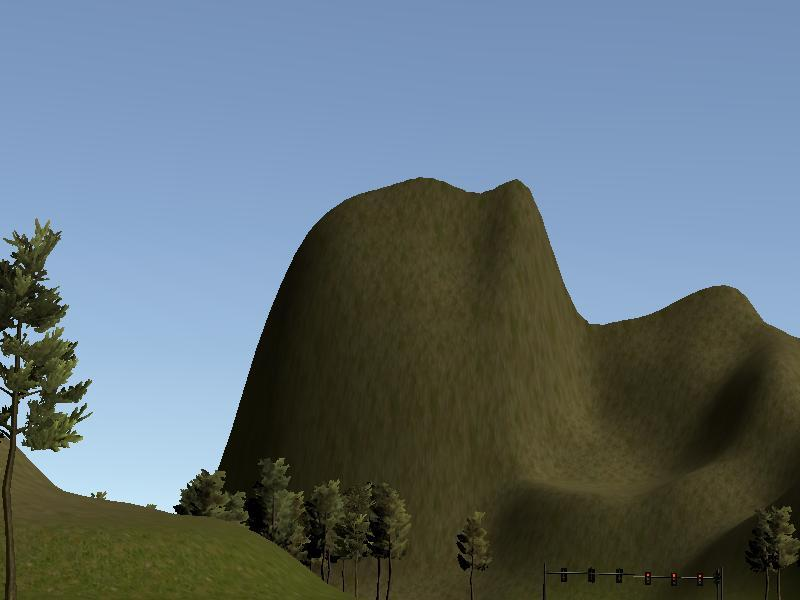Red: (643, 569, 652, 586), (695, 571, 704, 587), (669, 572, 678, 587)
